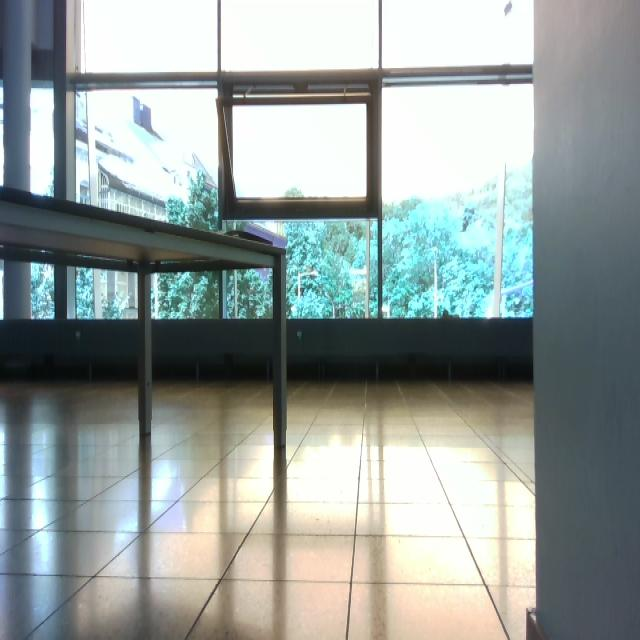door: (2, 1, 639, 640)
light bulb: (298, 269, 319, 298), (504, 1, 513, 17), (310, 270, 319, 277)
pillar: (530, 1, 640, 640)
table: (2, 185, 291, 453)
tiled floor: (2, 377, 536, 638)
